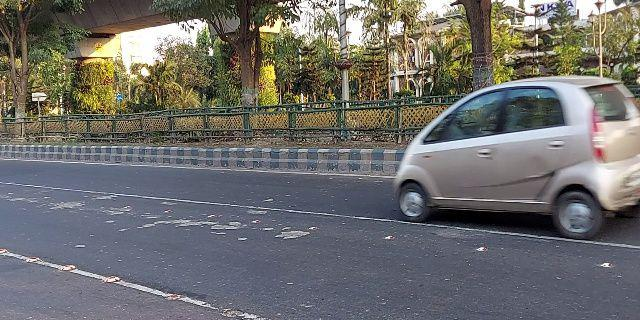Car: (388, 72, 639, 242)
